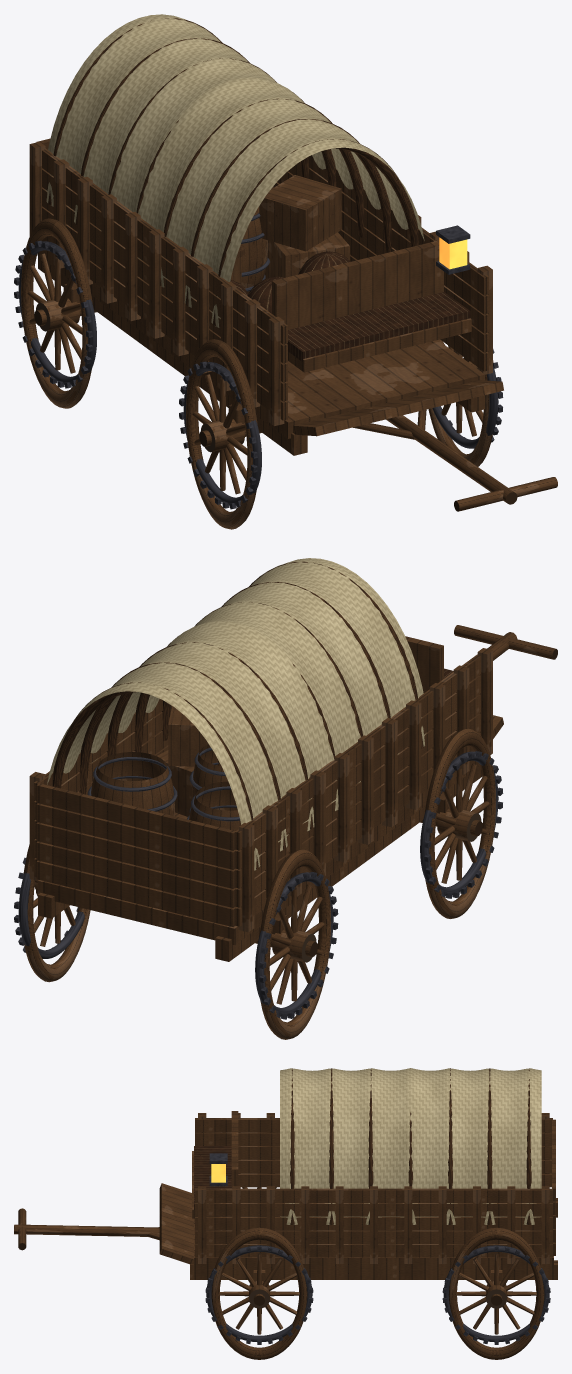
The model's file is veh_merchant_covered_wagon.glb.
The picture shows the model from 3 angles, top to bottom: view 1: azimuth 30°, elevation 25°; view 2: azimuth 150°, elevation 25°; view 3: azimuth 270°, elevation 25°; orthographic projection. The views are drawn at different scales.
Parts seen in each view (by area): view 1: oak_chassis_rails, canvas_canopy, iron_rims_hoops, canopy_ribs, cargo_sacks, lit_lantern; view 2: oak_chassis_rails, canvas_canopy, iron_rims_hoops, canopy_ribs; view 3: oak_chassis_rails, canvas_canopy, iron_rims_hoops, canopy_ribs, cargo_sacks.
Part boxes in pixels (x1,y1,x2,y2): oak_chassis_rails: (21, 138, 557, 529); canvas_canopy: (45, 14, 424, 327); iron_rims_hoops: (14, 213, 503, 509); canopy_ribs: (48, 18, 418, 325); cargo_sacks: (230, 251, 470, 361); lit_lantern: (439, 237, 467, 269); oak_chassis_rails: (23, 625, 557, 1039); canvas_canopy: (47, 558, 426, 870); iron_rims_hoops: (14, 747, 503, 1019); canopy_ribs: (53, 561, 423, 869); oak_chassis_rails: (14, 1111, 557, 1359); canvas_canopy: (280, 1068, 541, 1224); iron_rims_hoops: (205, 1153, 550, 1344); canopy_ribs: (290, 1068, 531, 1224); cargo_sacks: (194, 1146, 231, 1209).
Size of the model in its own units: 2.8 by 3.3 by 6.65.
6 materials, 6 textured.
